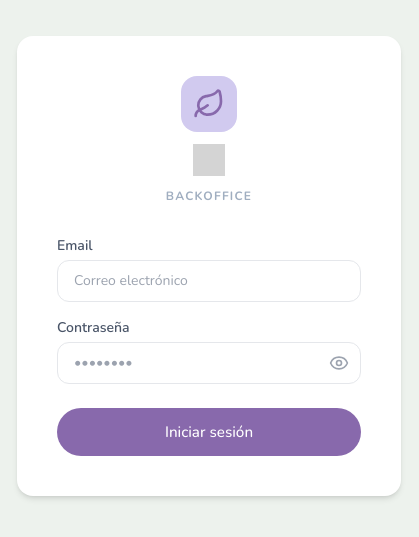
Scenario: BackofficeLogin › muestra error de validación si el email está vacío
Step 1. Click the button "Iniciar sesión" → (209, 432), box [57,408,361,456]
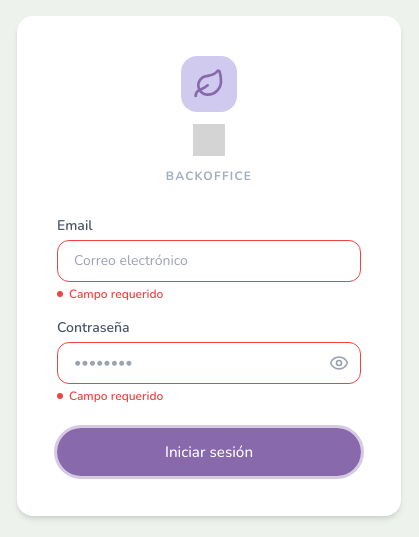
Result: the text "Campo requerido" is shown at [57,286,163,302]
